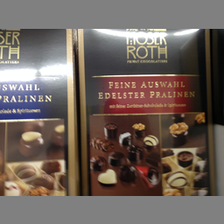chocolate: (77, 29, 220, 195), (1, 29, 77, 196)
